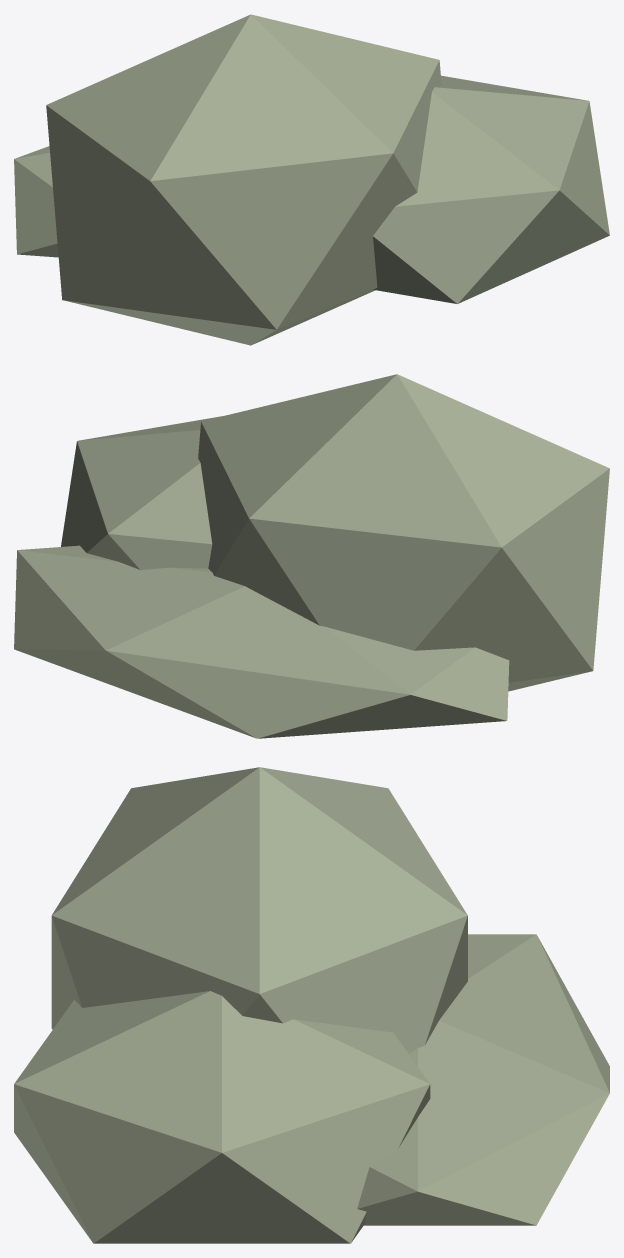
Rendered from rock-transition.glb.
3 renders of one model, top to bottom at view 1: azimuth 30°, elevation 25°; view 2: azimuth 150°, elevation 25°; view 3: azimuth 270°, elevation 25°, orthographic. The views are drawn at different scales.
Parts seen in each view (by area): view 1: rock-transition; view 2: rock-transition; view 3: rock-transition.
Part boxes in pixels (x1,y1,x2,y2): rock-transition: (14, 14, 609, 345); rock-transition: (14, 374, 609, 738); rock-transition: (14, 767, 609, 1243).
Size of the model in its own units: 1.94 by 1.2 by 1.58.
